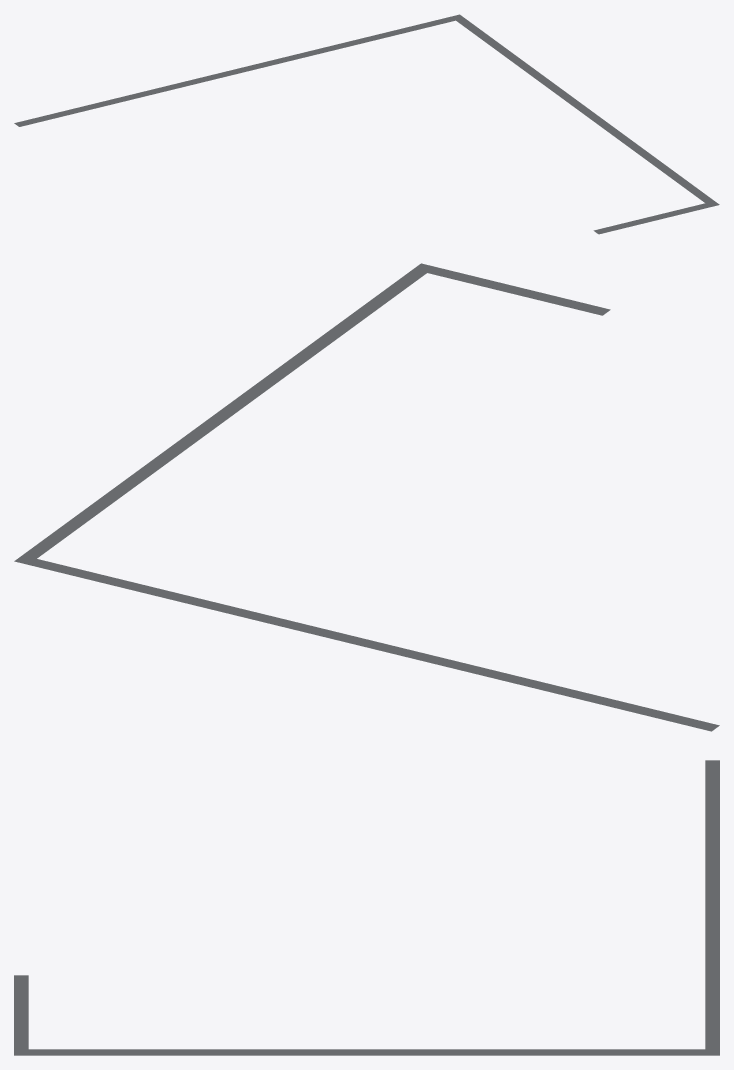
File: kd_stage_135ded_4_96_exterior_piece_0.glb
3 views of the same model, one above another, from view 1: azimuth 30°, elevation 25°; view 2: azimuth 150°, elevation 25°; view 3: azimuth 270°, elevation 25° (orthographic). The views are drawn at different scales.
Parts seen in each view (by area): view 1: kd_stage_135ded_4_96_exterior_piece_0; view 2: kd_stage_135ded_4_96_exterior_piece_0; view 3: kd_stage_135ded_4_96_exterior_piece_0.
Boxes of the visible parts, bbox=[...] form: kd_stage_135ded_4_96_exterior_piece_0: bbox=[14, 14, 719, 234]; kd_stage_135ded_4_96_exterior_piece_0: bbox=[14, 263, 719, 731]; kd_stage_135ded_4_96_exterior_piece_0: bbox=[14, 760, 719, 1055].
Size of the model in its own units: 4.82 by 8.34e-07 by 4.87.
Materials: 1 (1 with a texture image).
